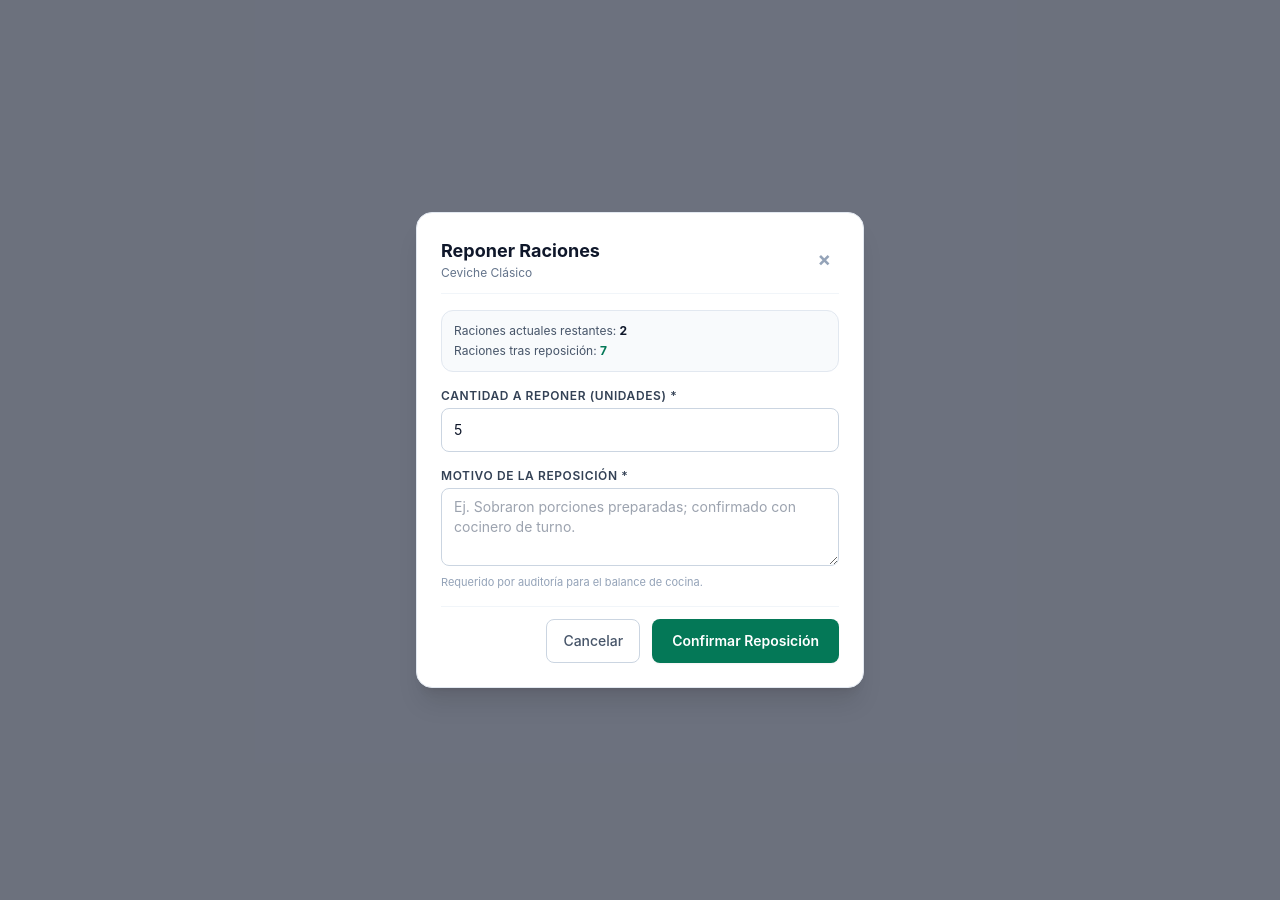
it: ReplenishRationsModal › validates quantity >= 1
Replace the text in the number field labelled "Cantidad a reponer (unidades) *" with "0" at (640, 430), box [441,408,839,452]
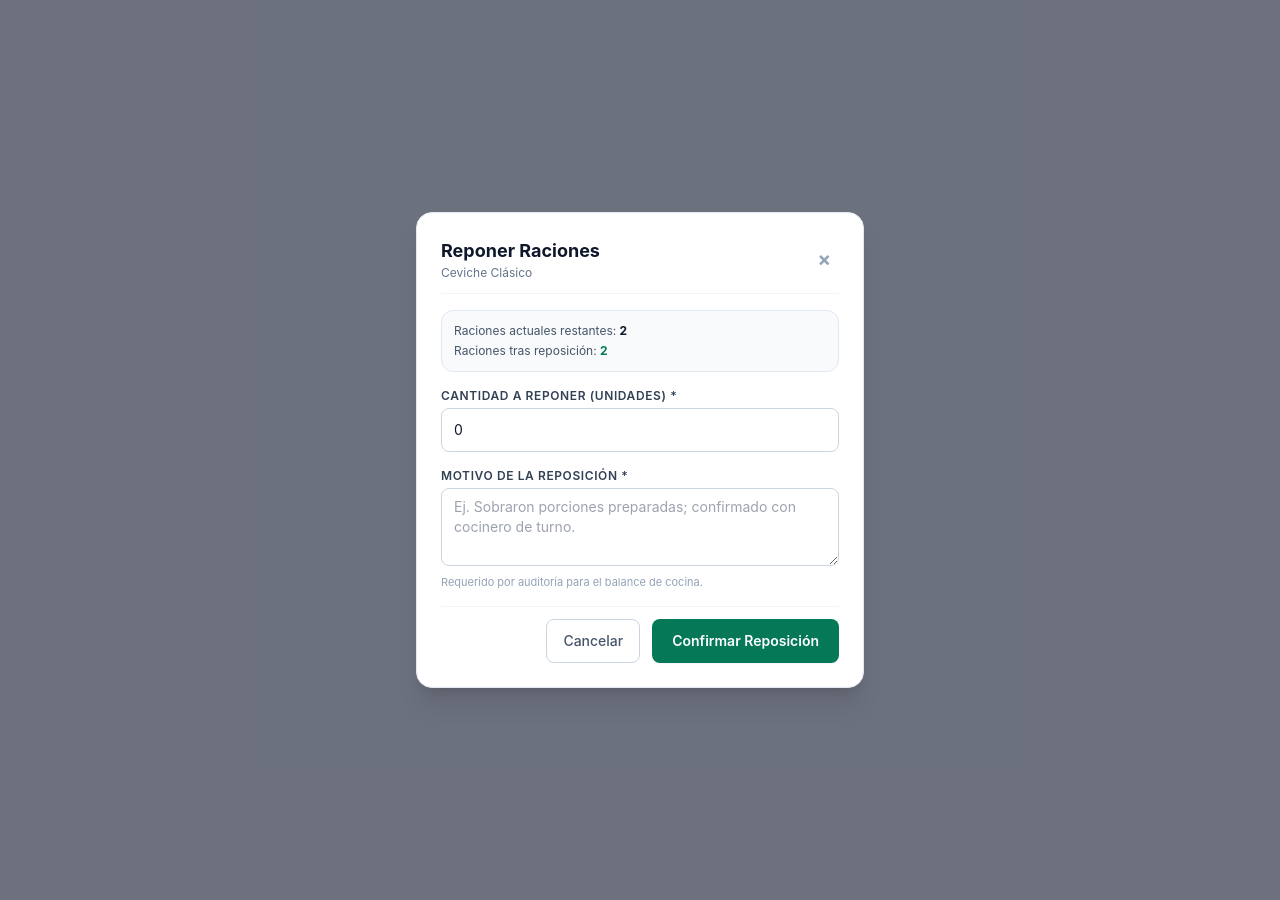
Replace the text in the text box labelled "Motivo de la reposición *" with "Nueva preparación de pescado" at (640, 527), box [441,488,839,566]
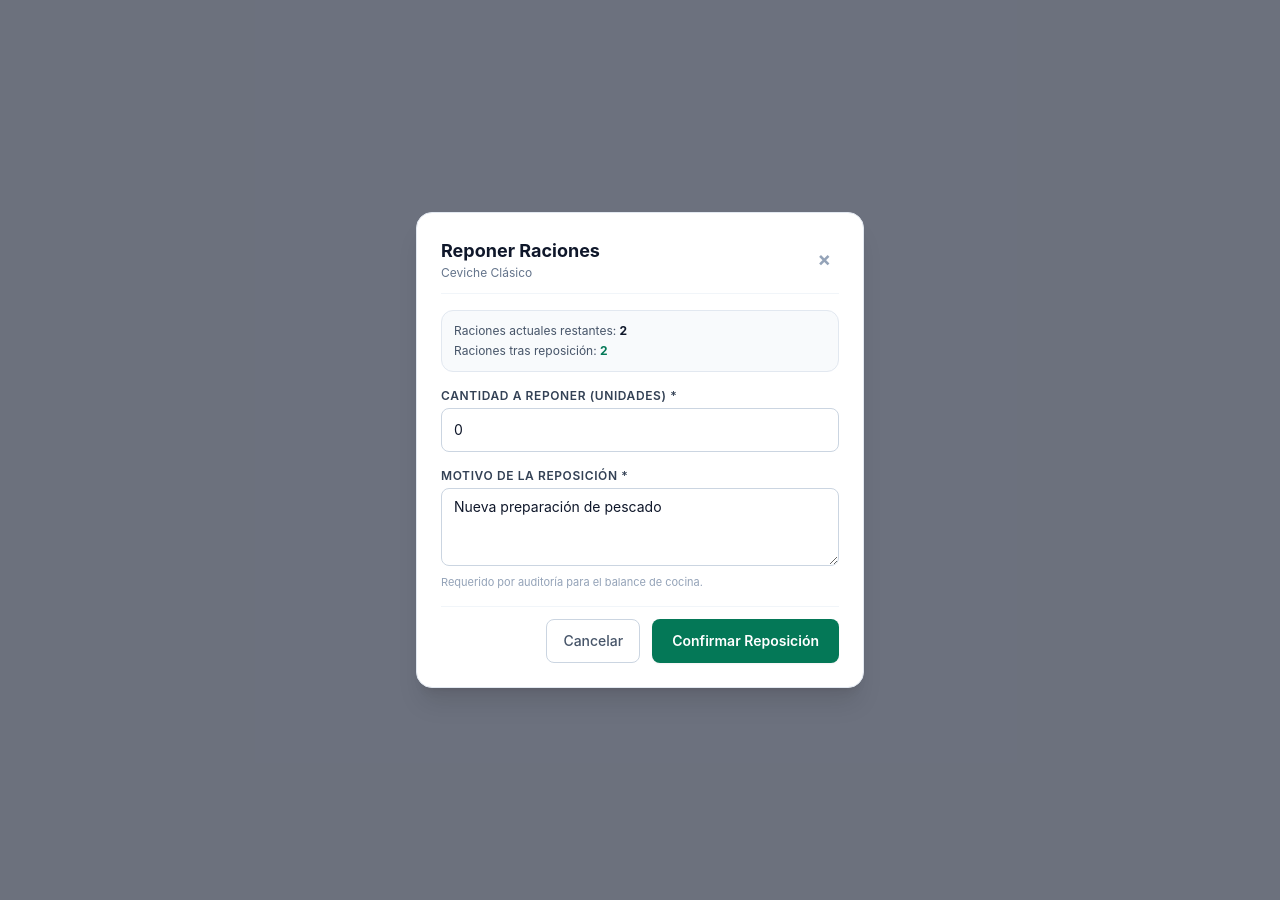
Submit the form with test id "replenish-form", box [441,388,839,663]
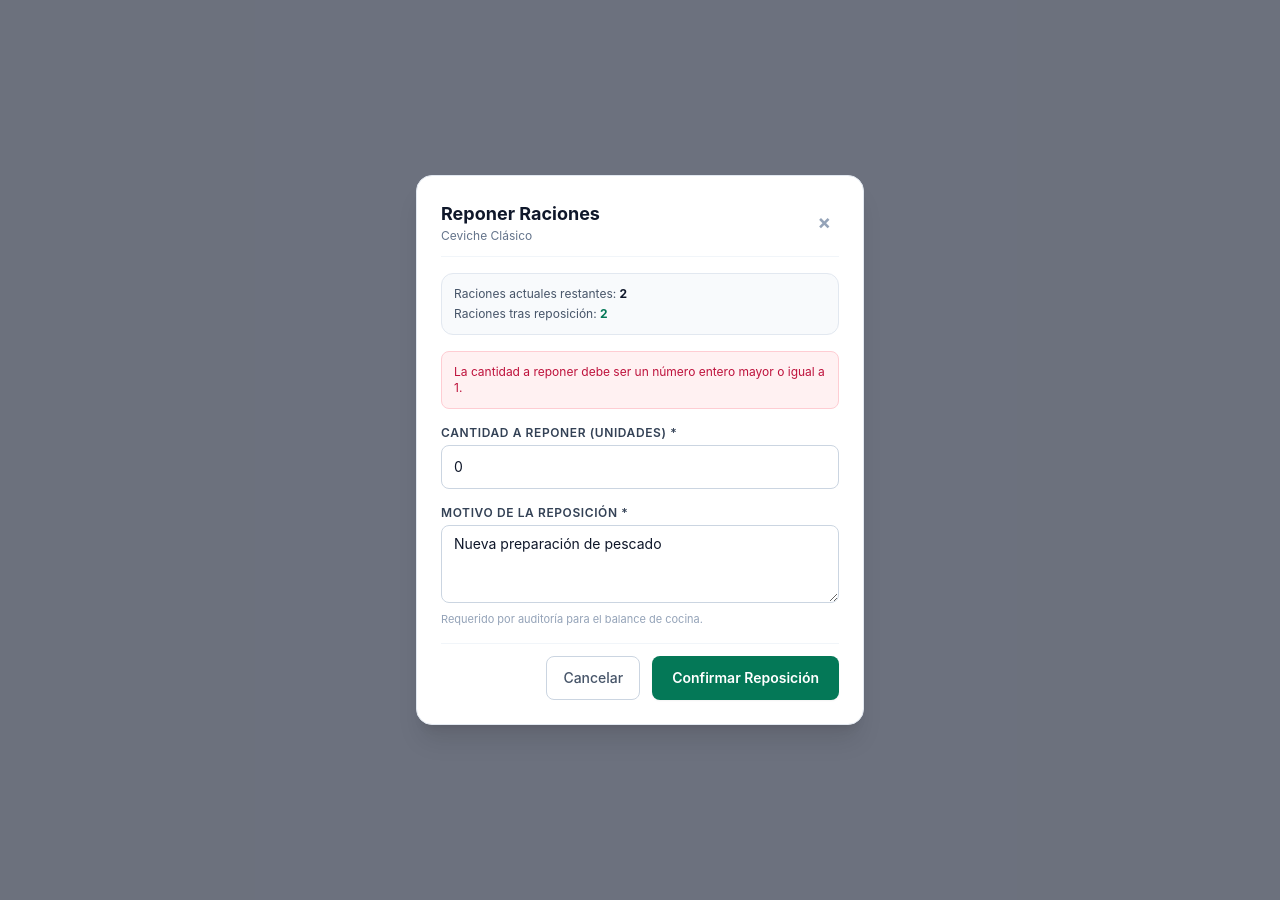
Check: the text with test id "replenish-error" shows "mayor o igual a 1", box [454,364,825,395]
